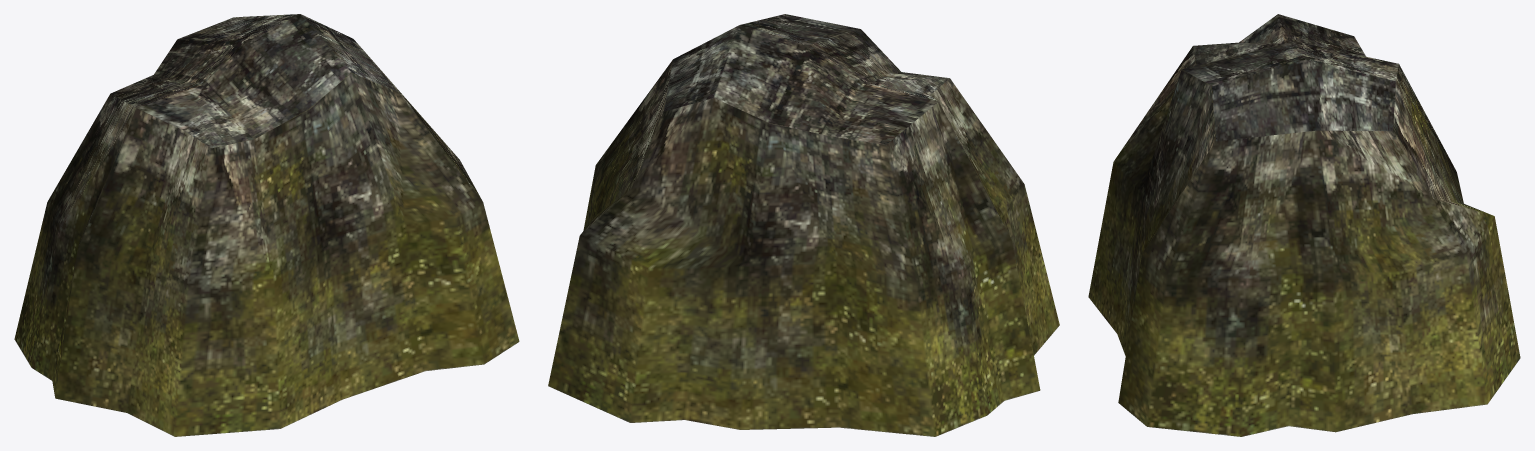
The model's file is OZ_05_mi_clifRc01A.glb.
3 renders of one model, left to right at view 1: azimuth 30°, elevation 25°; view 2: azimuth 150°, elevation 25°; view 3: azimuth 270°, elevation 25°, orthographic. The views are drawn at different scales.
Parts seen in each view (by area): view 1: OM_05_mi_clifRc01A; view 2: OM_05_mi_clifRc01A; view 3: OM_05_mi_clifRc01A.
Boxes of the visible parts, bbox=[...] form: OM_05_mi_clifRc01A: bbox=[14, 14, 519, 436]; OM_05_mi_clifRc01A: bbox=[548, 14, 1059, 436]; OM_05_mi_clifRc01A: bbox=[1088, 14, 1520, 436].
Size of the model in its own units: 3.2 by 2.17 by 2.83.
Materials: 1 (1 with a texture image).
